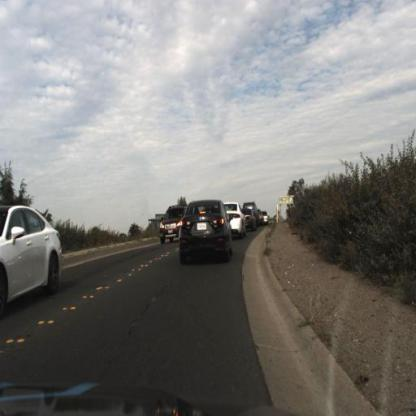car: (1, 204, 64, 318), (176, 195, 230, 269), (155, 200, 186, 249), (224, 201, 247, 240), (224, 199, 247, 238), (239, 204, 255, 232)
